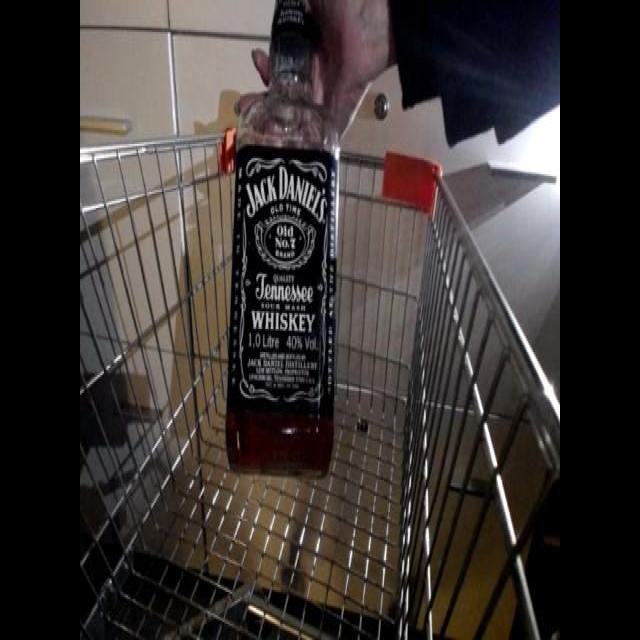Jack Daniels: (205, 0, 362, 482)
